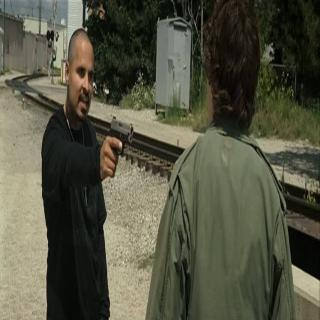gun: (104, 110, 133, 180)
